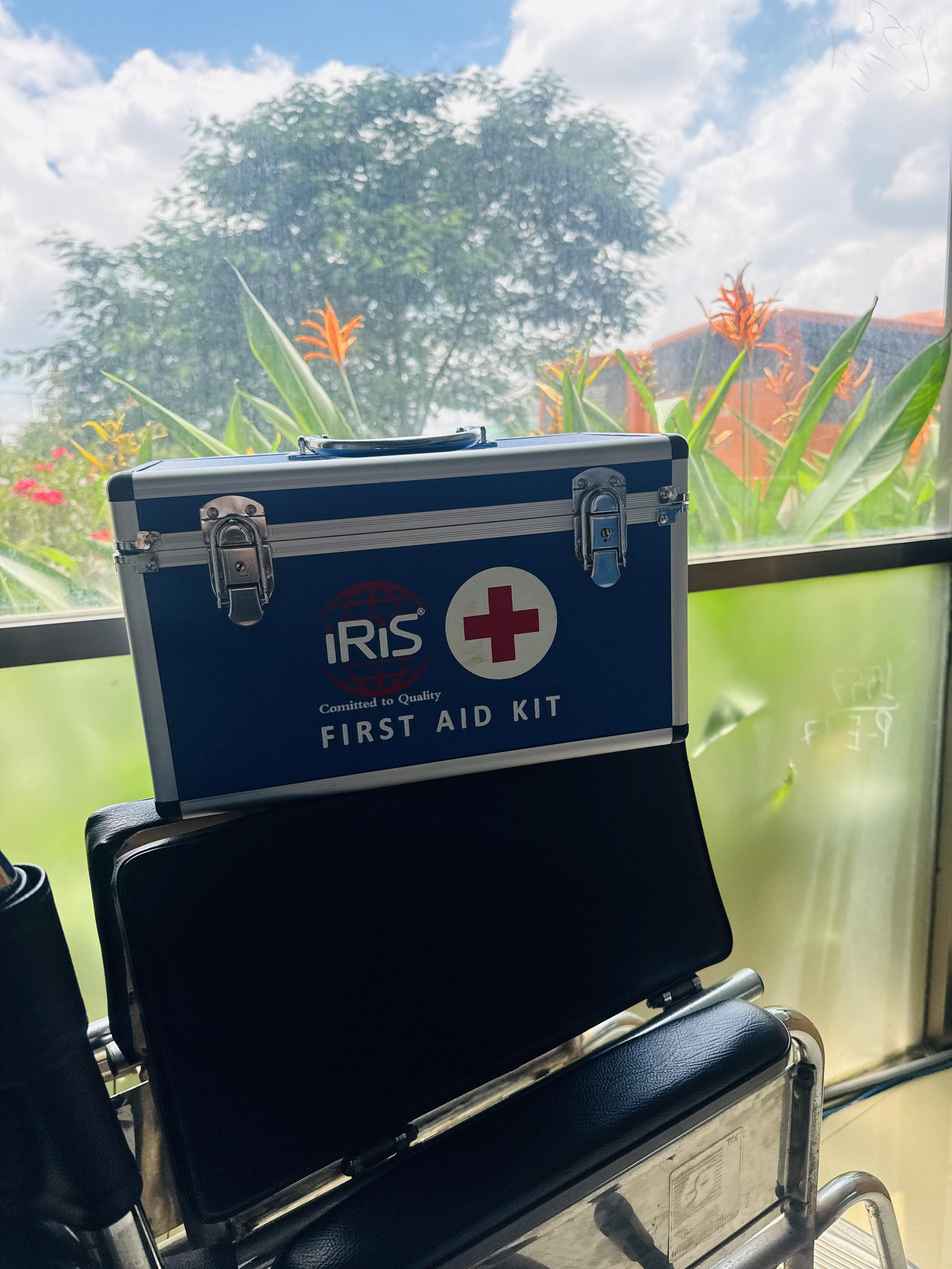FirstAidBox: (93, 413, 738, 823)
